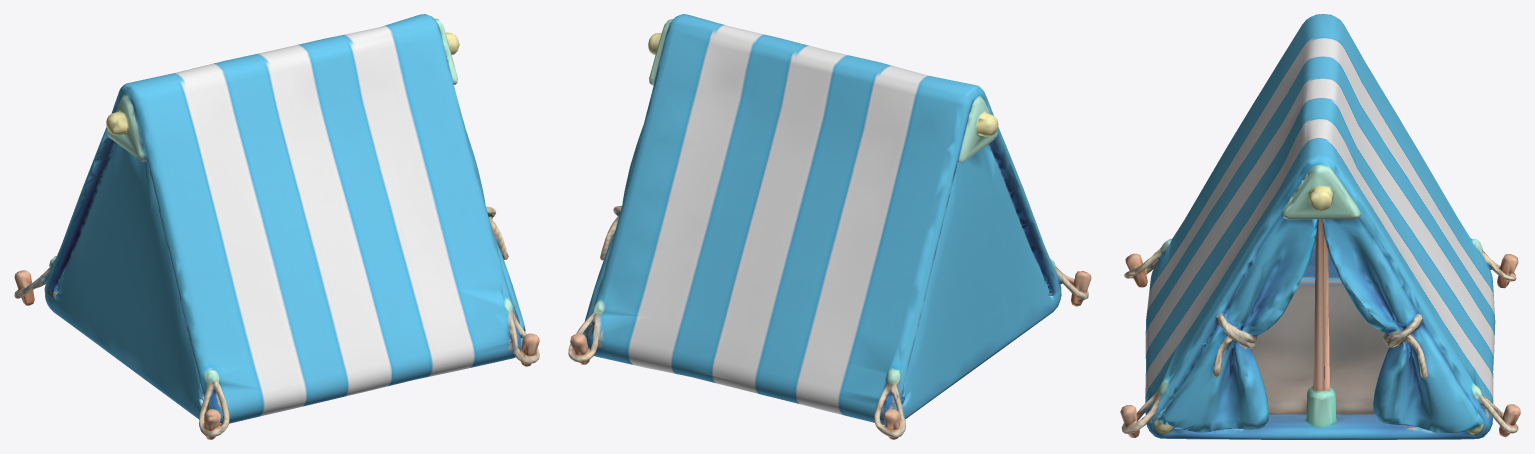
The picture shows the model from 3 angles, left to right: view 1: azimuth 30°, elevation 25°; view 2: azimuth 150°, elevation 25°; view 3: azimuth 270°, elevation 25°; orthographic projection.
Visible parts, largest first — view 1: repaired; view 2: repaired; view 3: repaired.
Part boxes in pixels (x1,y1,x2,y2): repaired: (14, 14, 539, 439); repaired: (568, 14, 1091, 439); repaired: (1120, 14, 1520, 439).
Bounding box in the file's own units: 0.992 × 0.7703 × 0.9998.
Materials: 1 (1 with a texture image).
